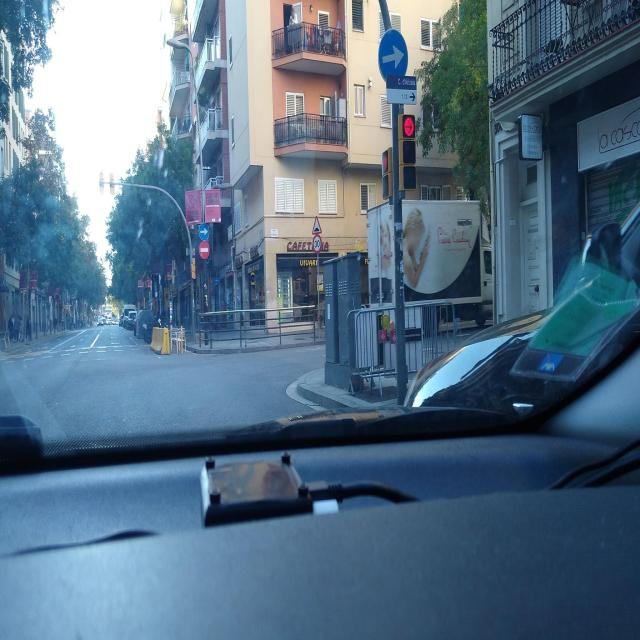car: (407, 283, 640, 411), (124, 310, 138, 331), (97, 317, 104, 328), (106, 318, 112, 326), (114, 319, 118, 326)
